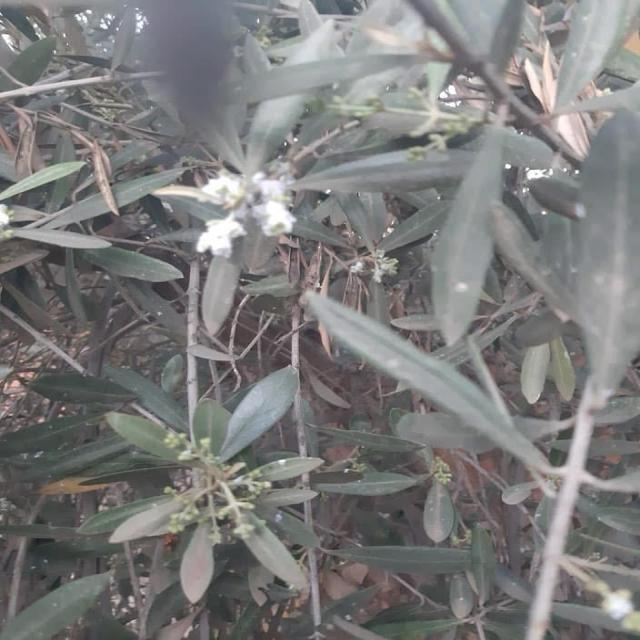Psyllid: (196, 162, 296, 258)
